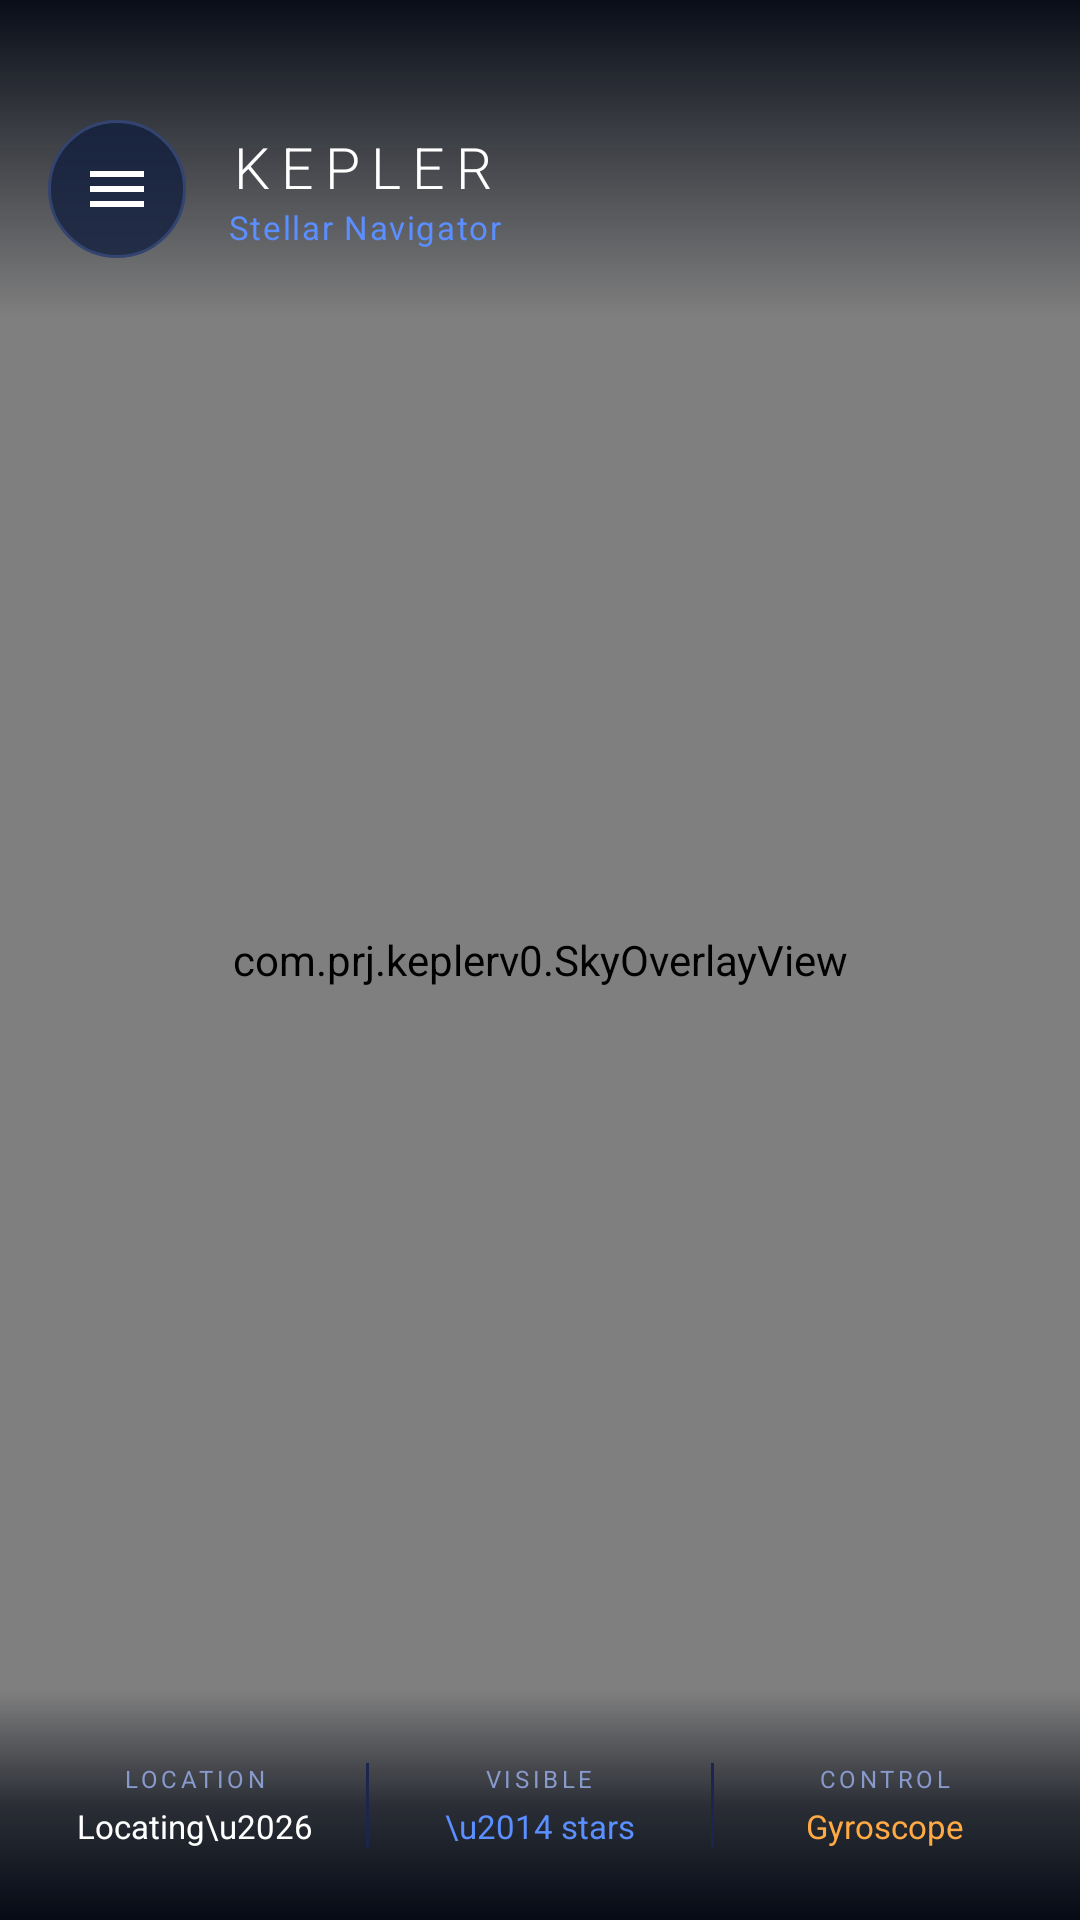

Point at icon controls on the screen. Image size 1080*1920, points as [x,y].
Open navigation menu: [117,189]
